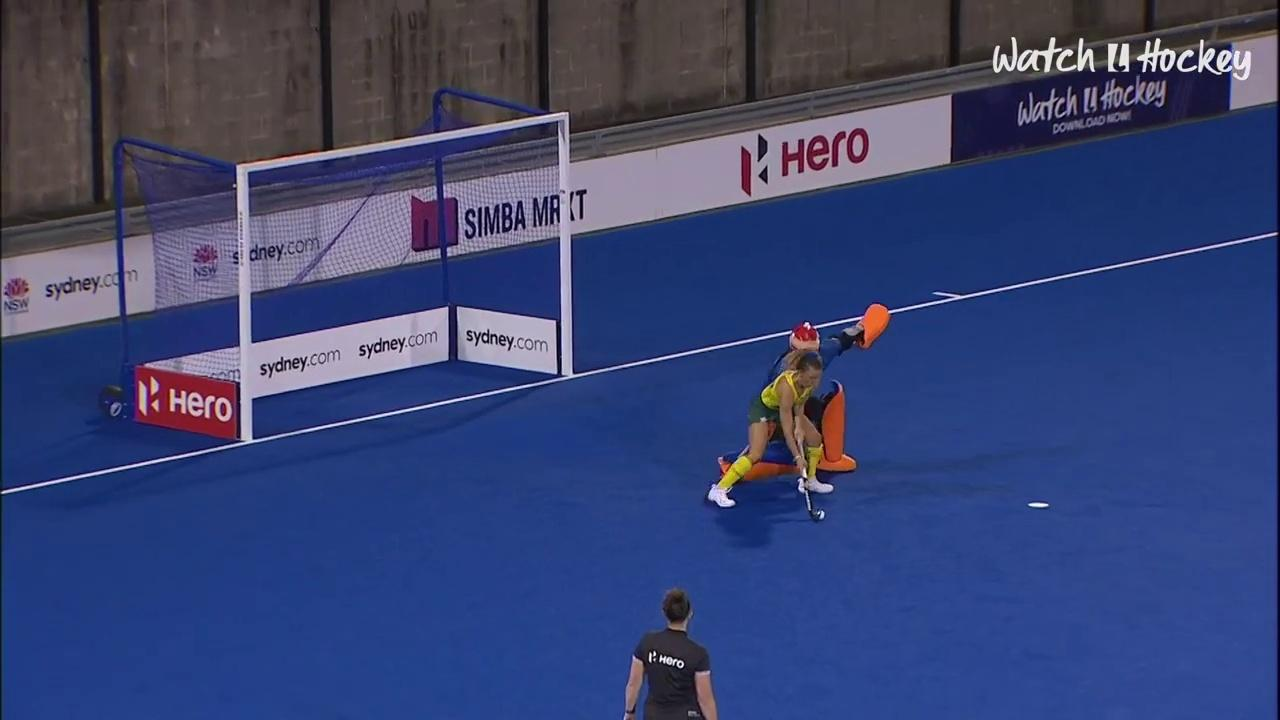ball: (805, 504, 831, 528)
